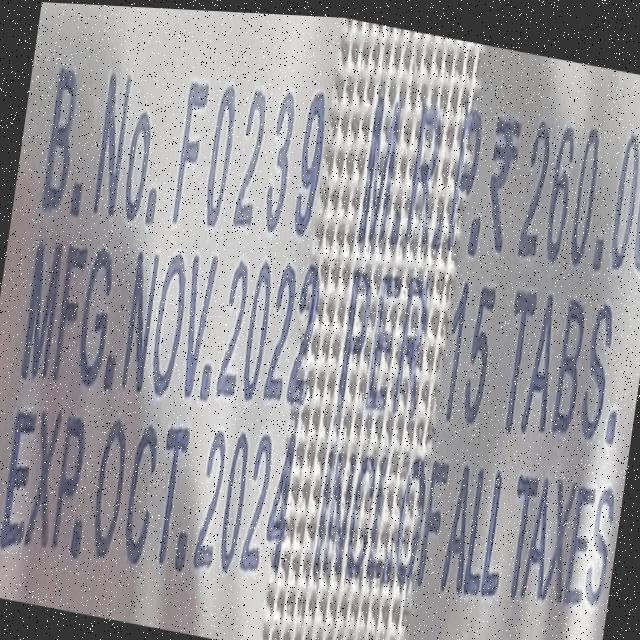sentence: (41, 27, 640, 271), (0, 401, 614, 611), (22, 219, 446, 440), (440, 261, 617, 442)
